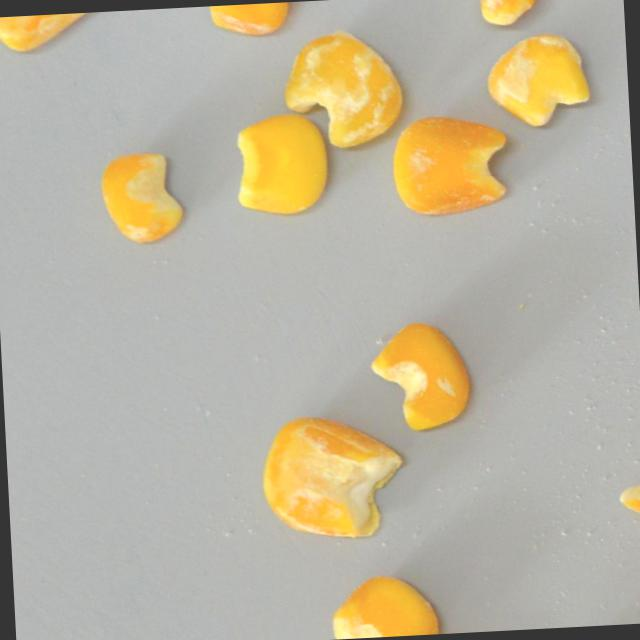dañado: (387, 108, 517, 223), (364, 314, 476, 436), (327, 568, 445, 640), (203, 1, 298, 41), (609, 431, 640, 542)
no_canjicado: (228, 105, 333, 219)
pelicula: (257, 406, 415, 551), (277, 24, 412, 155), (477, 26, 600, 131), (92, 143, 192, 248), (0, 11, 112, 55), (474, 0, 551, 27)
